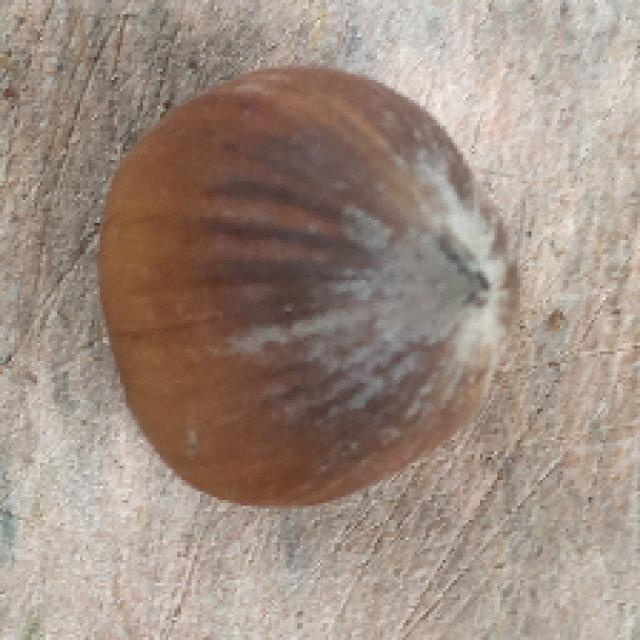qualityHazelnut: (86, 62, 524, 510)
